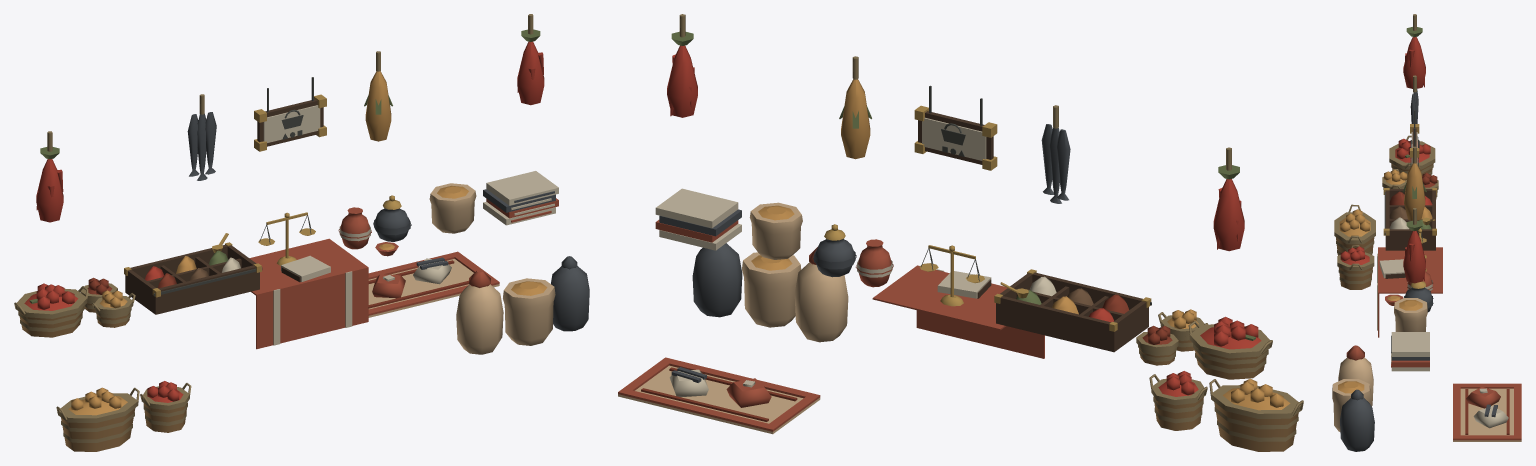
File: market_general.glb
3 renders of one model, left to right at view 1: azimuth 30°, elevation 25°; view 2: azimuth 150°, elevation 25°; view 3: azimuth 270°, elevation 25°, orthographic. The views are drawn at different scales.
Parts seen in each view (by area): view 1: market_general; view 2: market_general; view 3: market_general.
Part boxes in pixels (x1,y1,x2,y2): market_general: [14, 14, 589, 451]; market_general: [618, 14, 1303, 451]; market_general: [1332, 14, 1521, 451].
Bounding box in the file's own units: 6.72 × 3.41 × 2.48.
